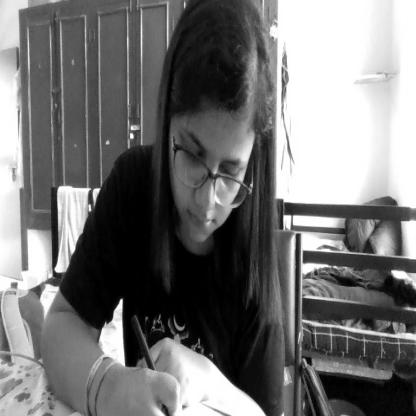Normal: (151, 4, 281, 256)
